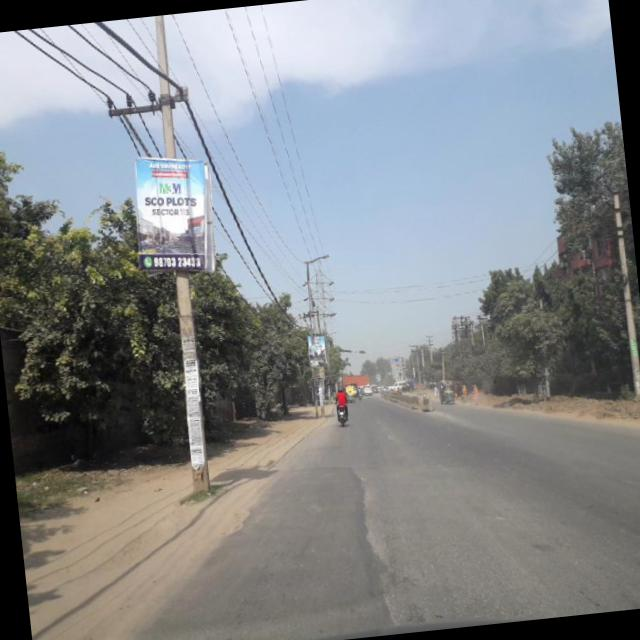pothole: (338, 465, 402, 629)
